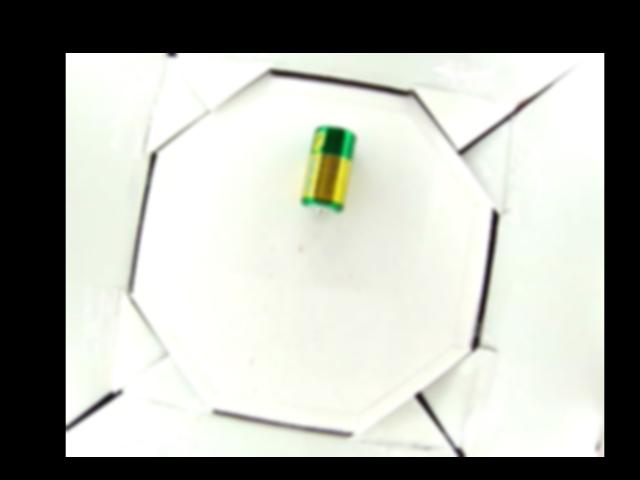Battery: (300, 126, 357, 215)
